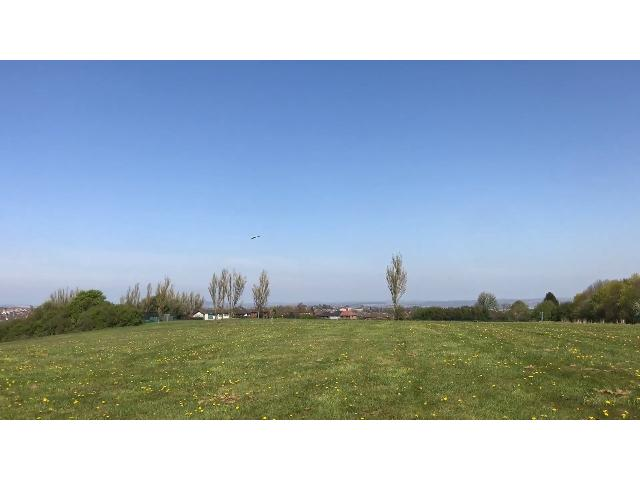Anti-Drone: (241, 229, 267, 247)
